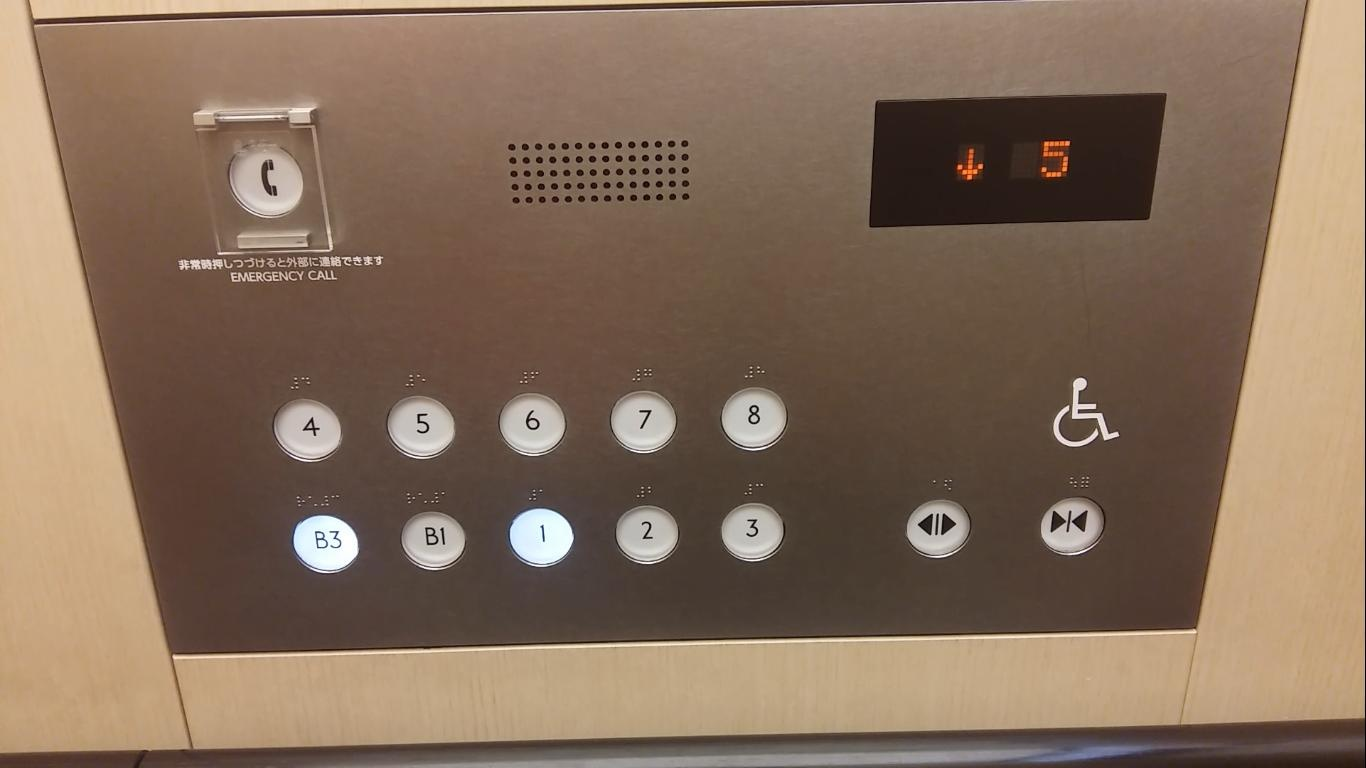1: (505, 503, 580, 573)
2: (611, 500, 685, 568)
3: (716, 499, 793, 566)
4: (270, 395, 347, 466)
5: (382, 393, 461, 463)
6: (493, 388, 571, 460)
7: (608, 383, 680, 458)
8: (716, 383, 794, 456)
B1: (396, 504, 472, 575)
B3: (288, 509, 365, 577)
CH: (1039, 361, 1130, 460)
call: (217, 141, 312, 223)
close: (1035, 493, 1109, 562)
led: (868, 93, 1166, 227)
open: (903, 494, 971, 561)
